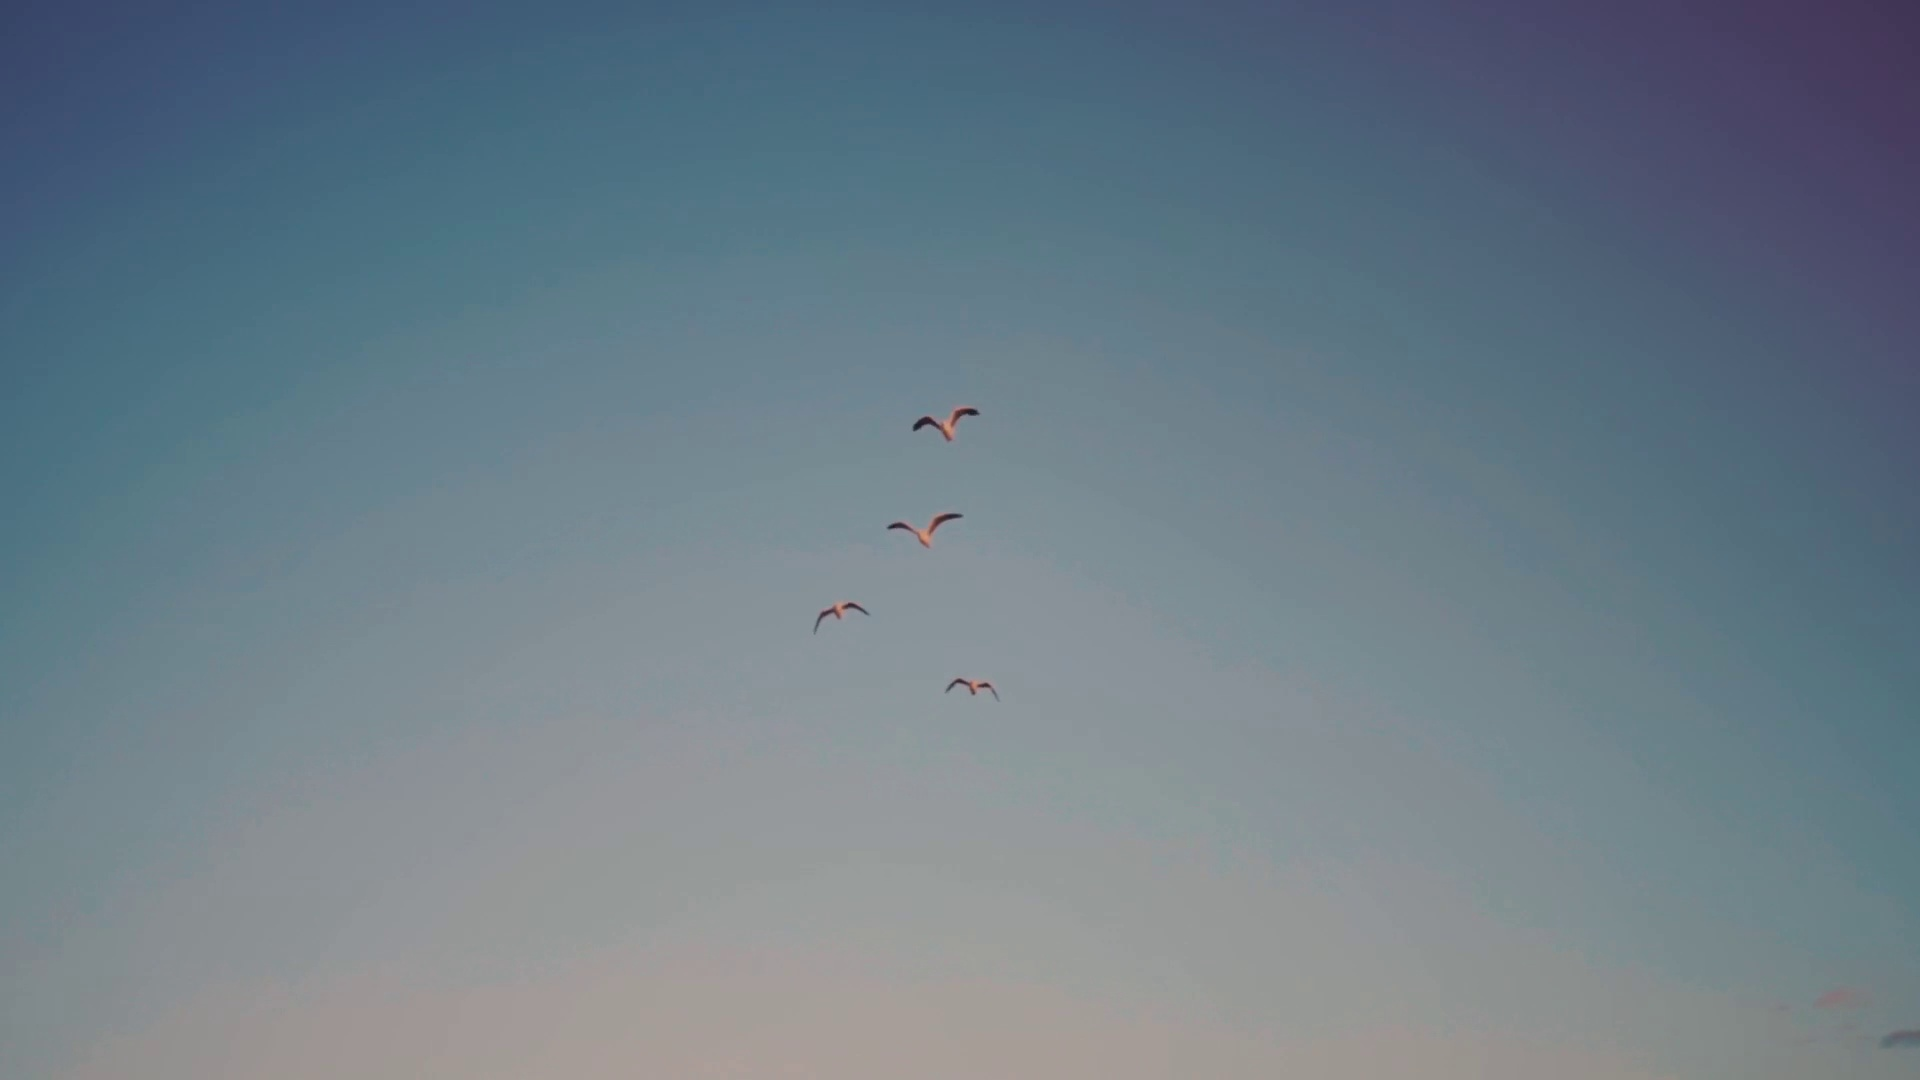bird: (885, 509, 959, 545), (911, 405, 978, 443), (812, 599, 866, 632), (945, 673, 1000, 700)
